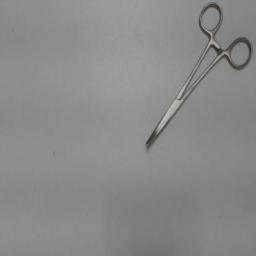Crile Artery Forceps: (142, 1, 254, 153)
